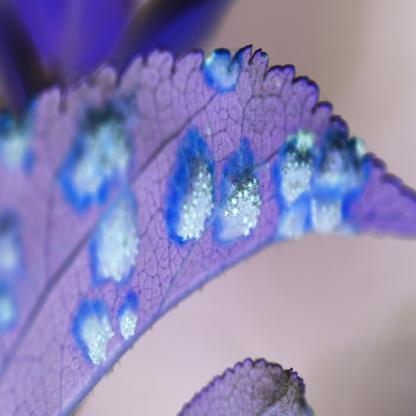Apple rust leaf: (3, 36, 409, 416)
